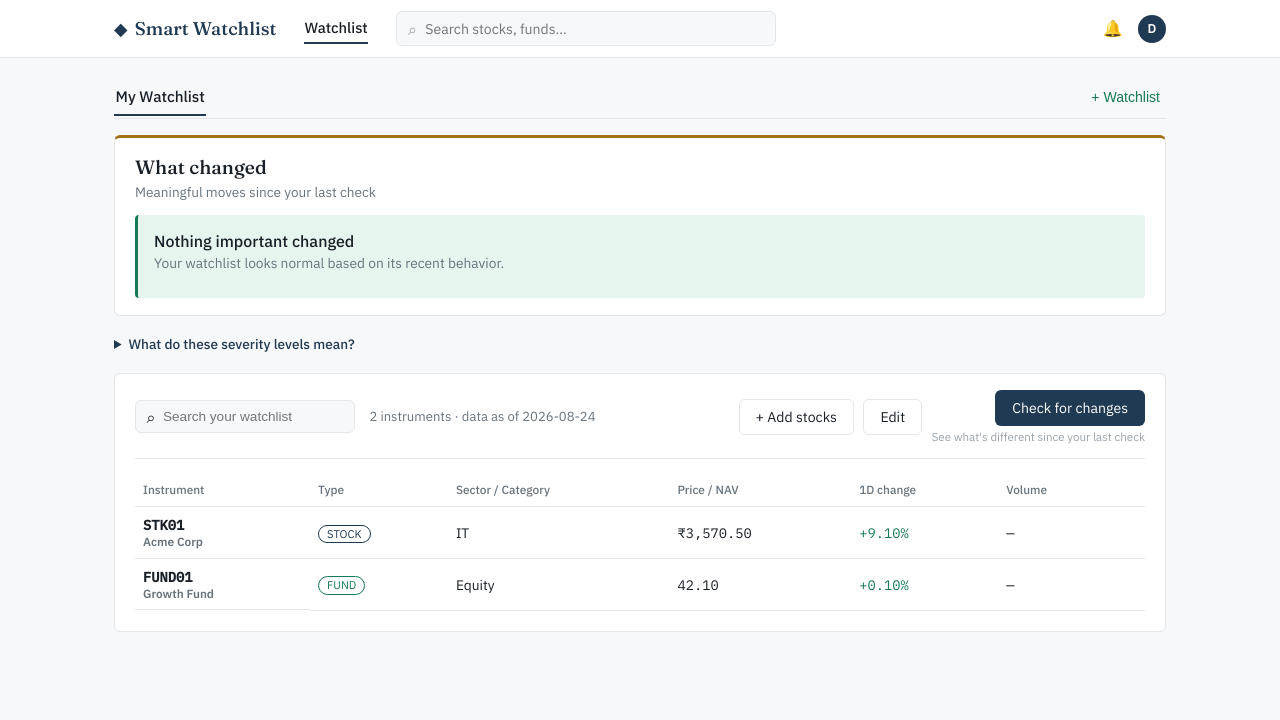
Test case: App — global instrument search › clearing the search removes the results dropdown
Check: the text "STK01" is shown, box [143,516,184,534]
Type "STK" into the dropdown labelled "Search stocks, funds" at (593,29), box [423,19,764,39]
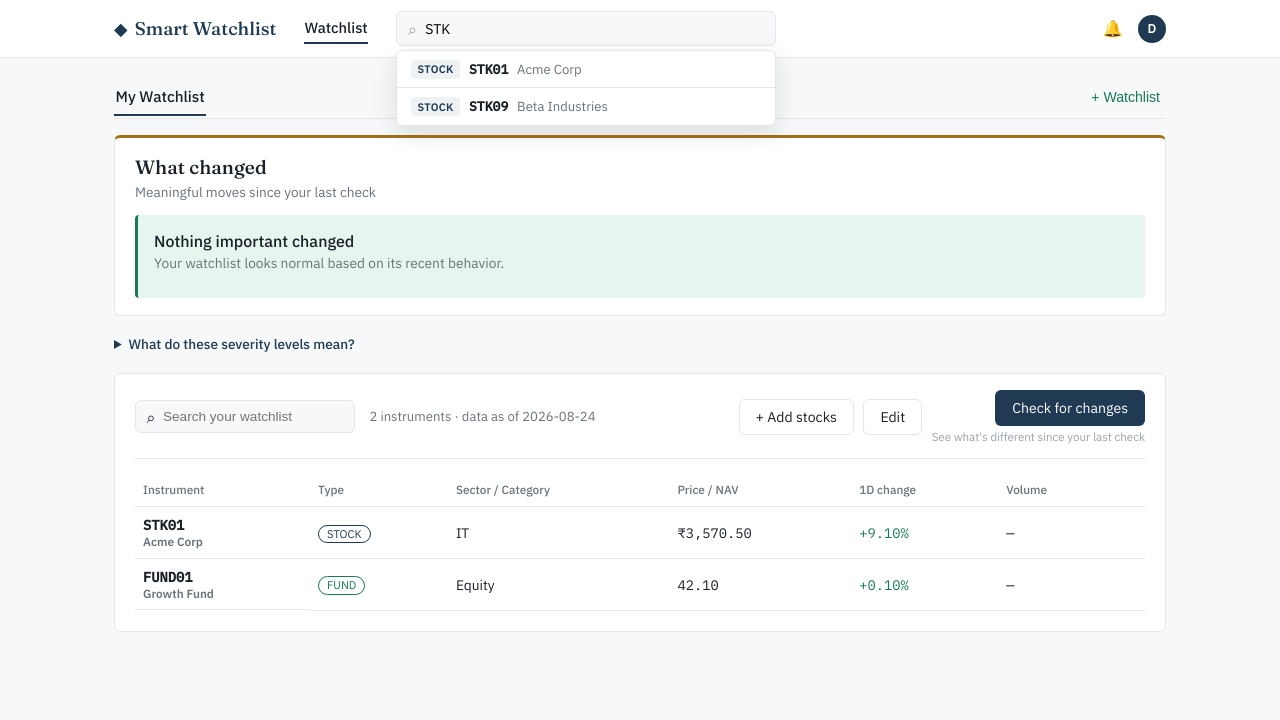
Check: the list is shown, box [396,50,776,126]
Clear the dropdown named "Search stocks, funds" at (593,29), box [423,19,764,39]
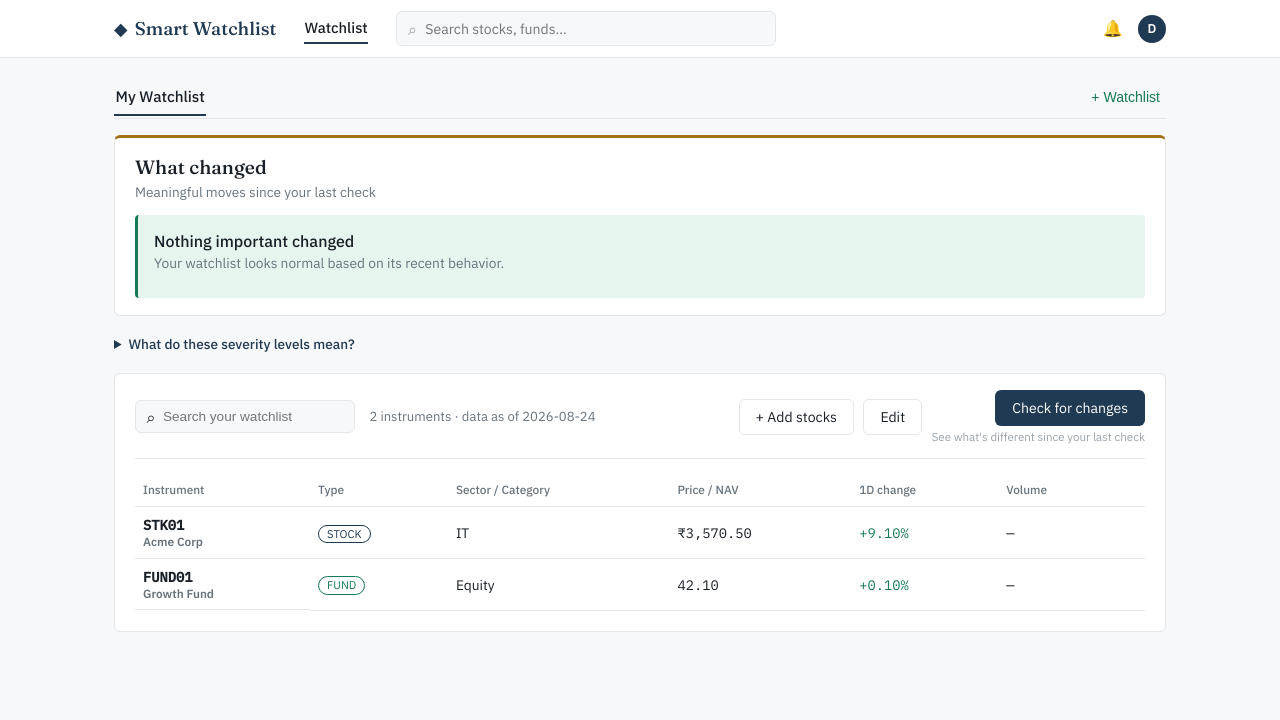
Check: the list is gone
